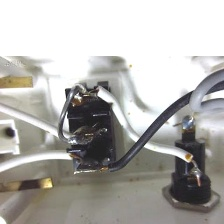three_eye_plug: (0, 45, 224, 224)
